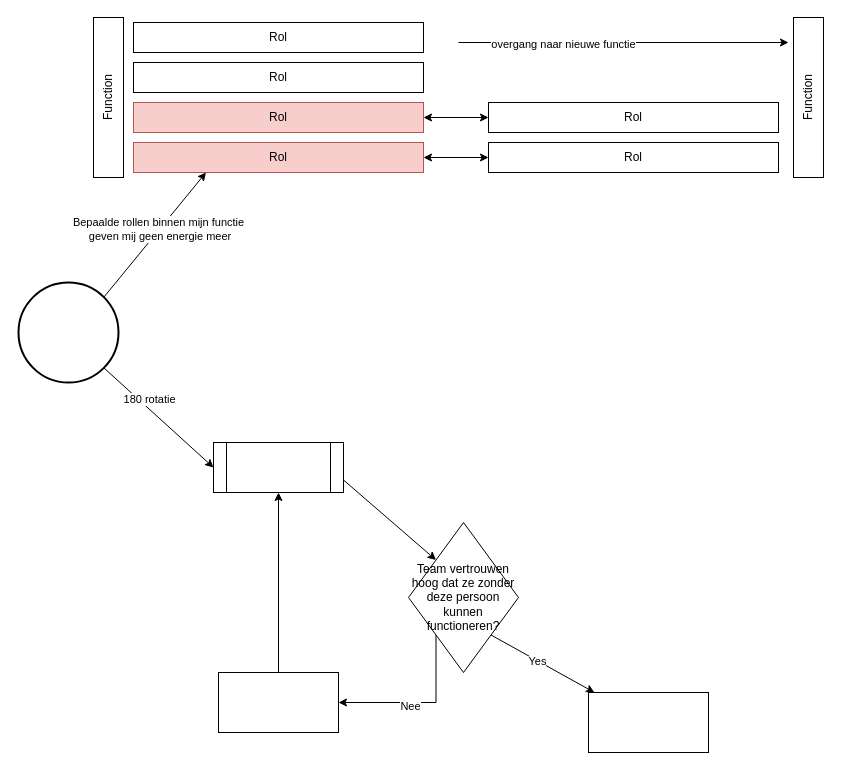
The diagram is 841 pixels wide and 770 high, and some of its shapes have lost their labels. Each missing label, with the centre of its shape:
GO: [648,722]
Ik doe mijn functie niet meer graag: [68,332]
Maak jezelf zo vervangbaar mogelijk: [278,467]
Wat is er nodig?: [278,702]
